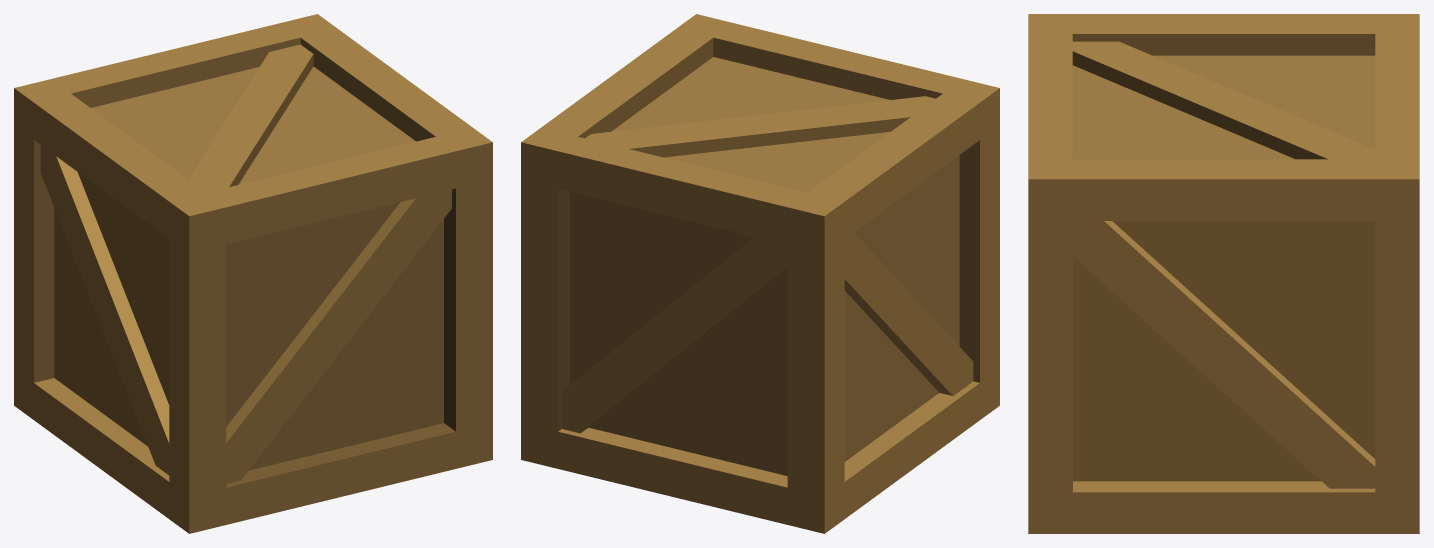
File: WoodenBox001.fbx
3 renders of one model, left to right at view 1: azimuth 30°, elevation 25°; view 2: azimuth 150°, elevation 25°; view 3: azimuth 270°, elevation 25°, orthographic. The views are drawn at different scales.
Parts seen in each view (by area): view 1: WoodBox; view 2: WoodBox; view 3: WoodBox.
Part boxes in pixels (left/top/right/bottom): WoodBox: left=14, top=14, right=492, bottom=533; WoodBox: left=521, top=14, right=999, bottom=533; WoodBox: left=1028, top=14, right=1419, bottom=533.
Size of the model in its own units: 59.35 by 59.35 by 59.35.
